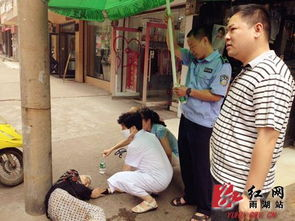fall: (36, 159, 131, 221)
